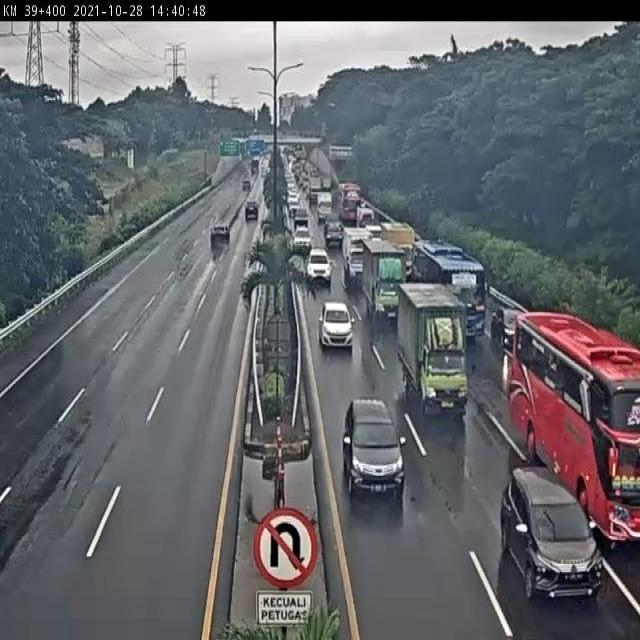bus-l-: (512, 312, 640, 551), (407, 237, 482, 336)
car: (500, 467, 607, 602), (341, 397, 406, 499), (489, 305, 528, 348), (320, 304, 355, 351), (305, 246, 332, 282)
mid truck: (209, 221, 233, 247)
truck-m-: (395, 282, 470, 414), (362, 238, 405, 322), (341, 225, 374, 287)
